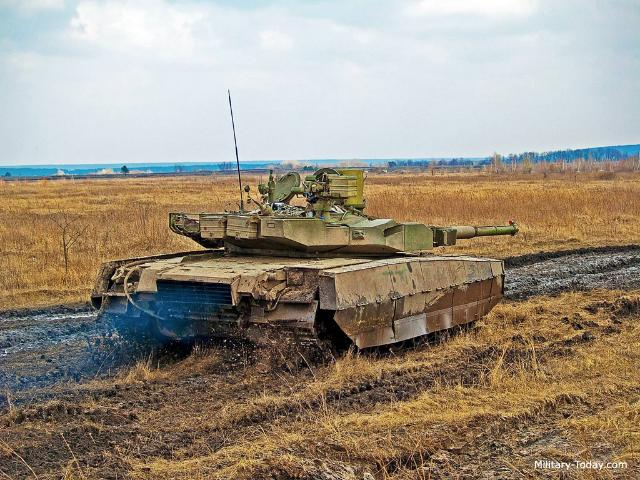tank: (100, 171, 510, 343)
